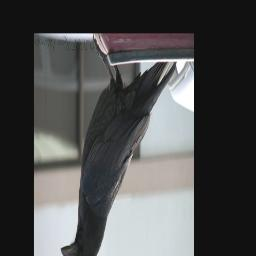Crow: (60, 37, 177, 256)
